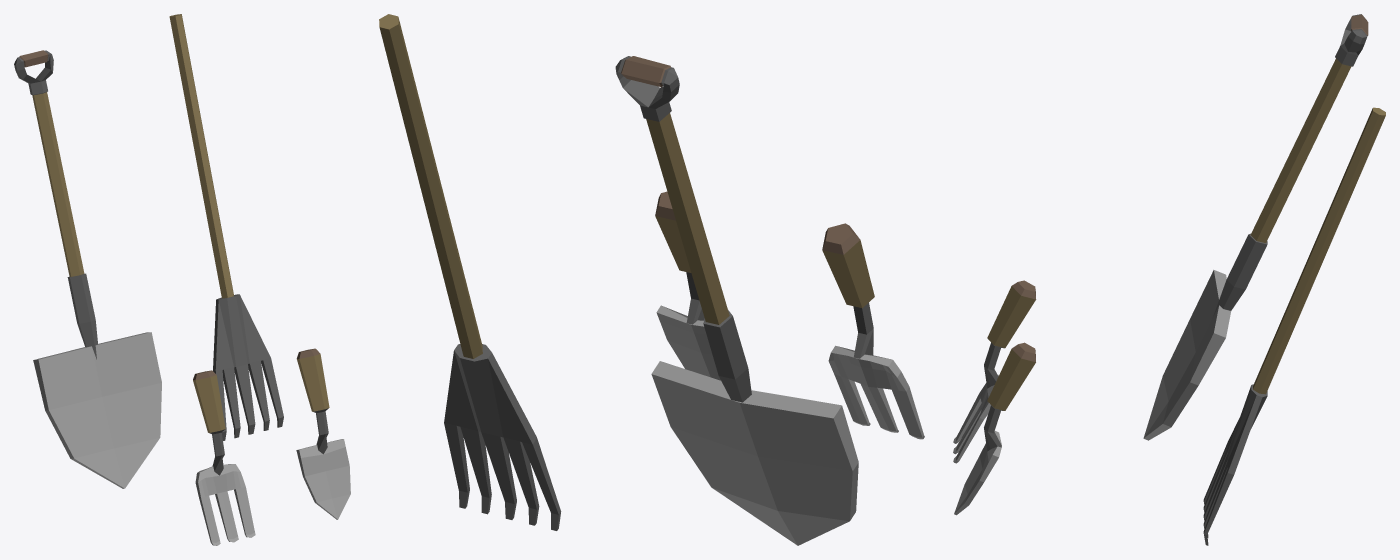
File: garden tools.fbx
3 views of the same model, side by side, from view 1: azimuth 30°, elevation 25°; view 2: azimuth 150°, elevation 25°; view 3: azimuth 270°, elevation 25° (orthographic). The views are drawn at different scales.
Visible parts, largest first — view 1: Shovel, rack, Trowel, Fork; view 2: Shovel, rack, Fork, Trowel; view 3: Shovel, rack, Trowel, Fork.
Part boxes in pixels (left/top/right/bottom): Shovel: left=14, top=50, right=161, bottom=488; rack: left=169, top=14, right=283, bottom=440; Trowel: left=296, top=348, right=350, bottom=519; Fork: left=193, top=370, right=255, bottom=545; Shovel: left=615, top=56, right=858, bottom=545; rack: left=379, top=14, right=561, bottom=530; Fork: left=822, top=223, right=924, bottom=439; Trowel: left=655, top=191, right=720, bottom=380; Shovel: left=1143, top=14, right=1368, bottom=440; rack: left=1203, top=107, right=1385, bottom=545; Trowel: left=954, top=342, right=1035, bottom=515; Fork: left=953, top=280, right=1036, bottom=463.
Size of the model in its own units: 2.13 by 3.12 by 2.89.
1 material, 1 textured.
